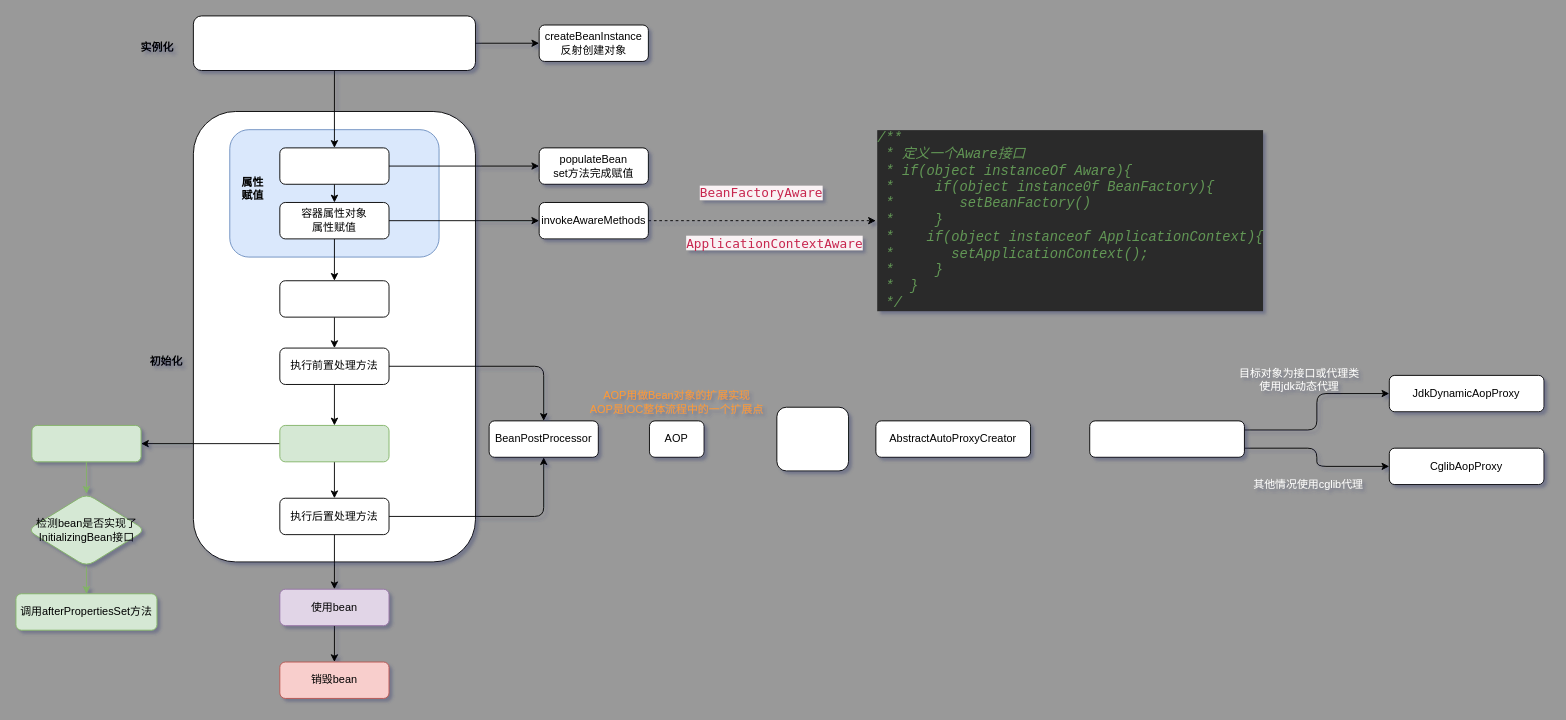
The diagram is 1566 pixels wide and 720 high, and some of its shapes have lost their labels. The centre of each missing label's shape, as x and y in pixels:
"DefaultAopProxyFactory" belongs at (1166,438).
"invokeInitMethods" belongs at (86,443).
"动态代理 jdk cglib" belongs at (812,438).
"实例化： 在堆空间申请空间，对象的属性值一般是默认值，使用反射创建对象的过程" belongs at (333,43).
"执行初始化方法" belongs at (334,443).
"自定义属性赋值" belongs at (334,165).
"获得普通对象是否需要进行扩展？" belongs at (334,298).
